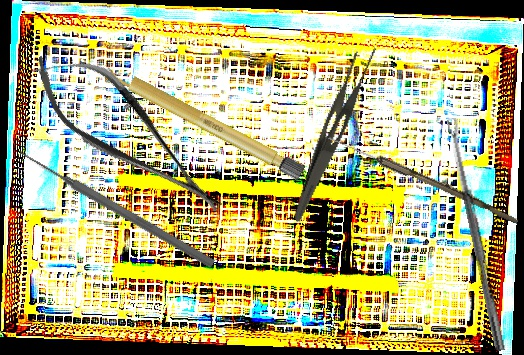Dressing Forceps: (291, 38, 380, 230)
Micro Scissor: (16, 30, 240, 238)
Pusher: (16, 146, 217, 270)
Scalpel Handle: (98, 59, 307, 181)
Surgical Spoon: (326, 133, 521, 225), (446, 117, 507, 352)
